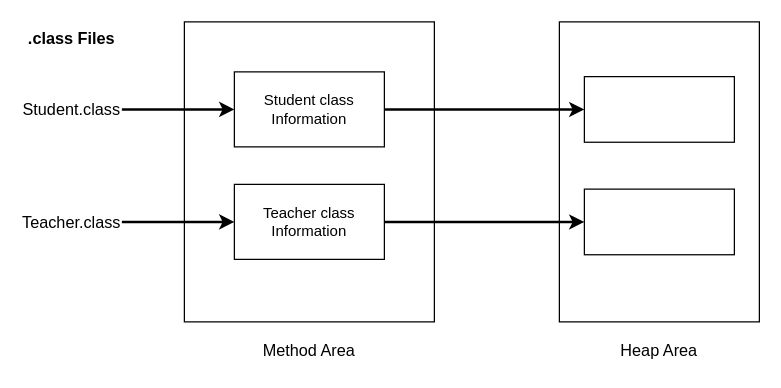
Image size: 781x388. Some labels were removed from this diagram. Here are the shapes that lost their labels. From the top down, the centre of each, then its label:
At point 658,108: "Class object for Student".
At point 658,221: "Class object for Teacher".
